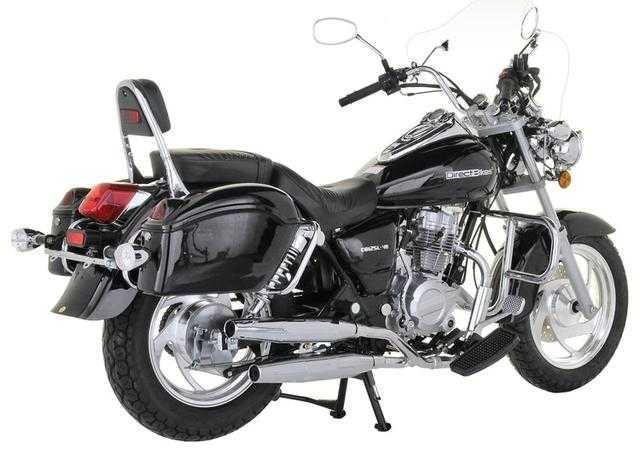motorbike: (8, 5, 632, 448)
